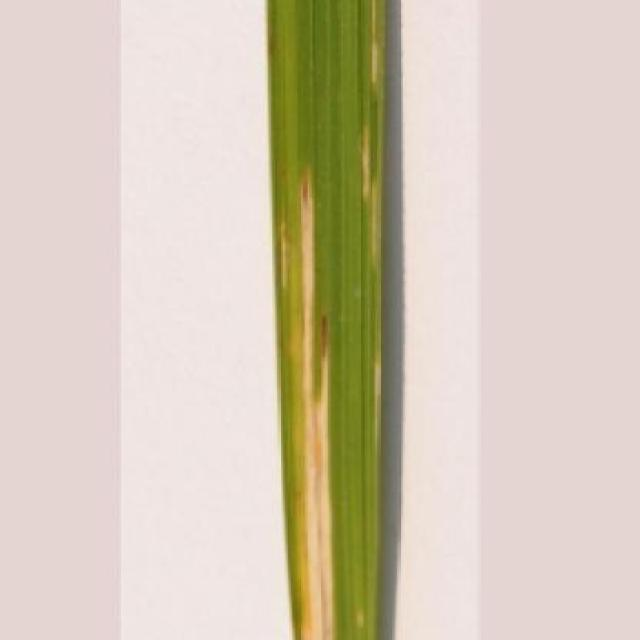Brown_Spot: (257, 0, 389, 640)
